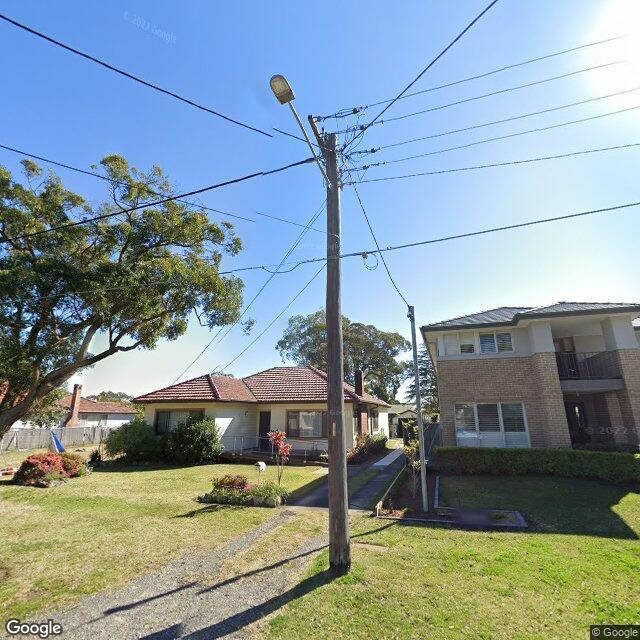crossarm: (308, 115, 344, 189)
steel-pole: (408, 304, 429, 513)
streetlight: (270, 75, 332, 188)
timber-pole: (327, 131, 352, 570)
